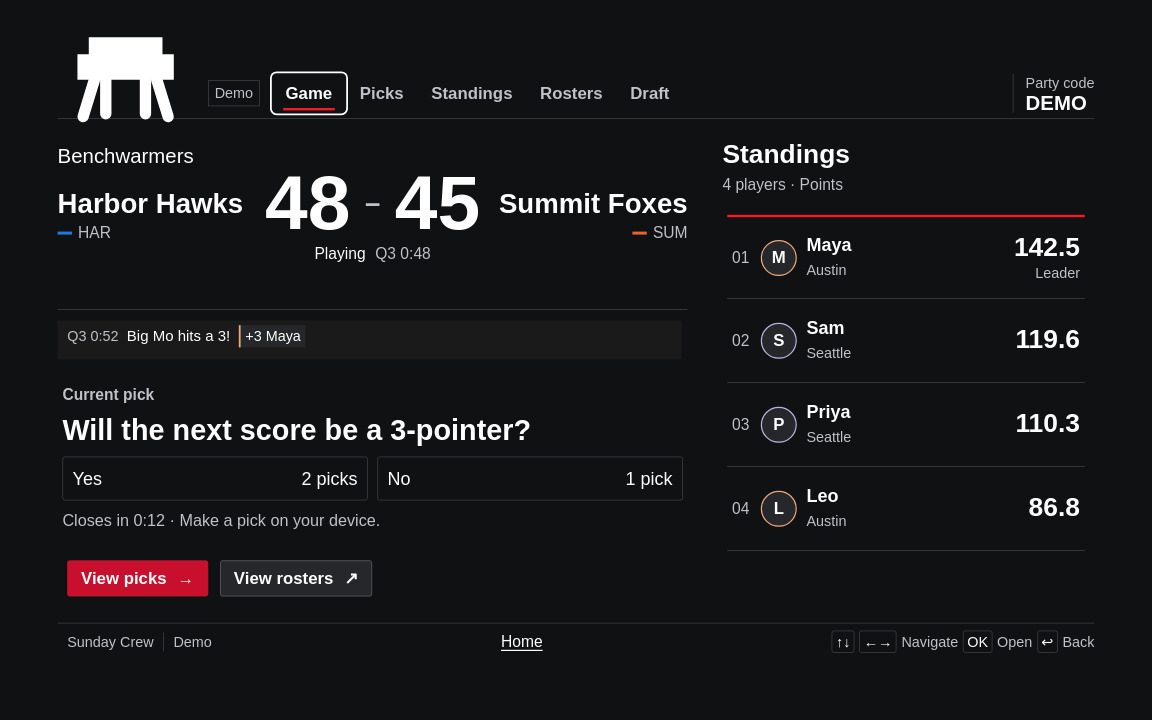
Test case: TvPage › keeps the game mounted while optional panels open and close
The image size is (1152, 720).
Expected: the element with class "tv-live" is shown, [58,136,1094,606]
Step 1. Click the button "Draft" → (650, 93), box [619,75,681,111]
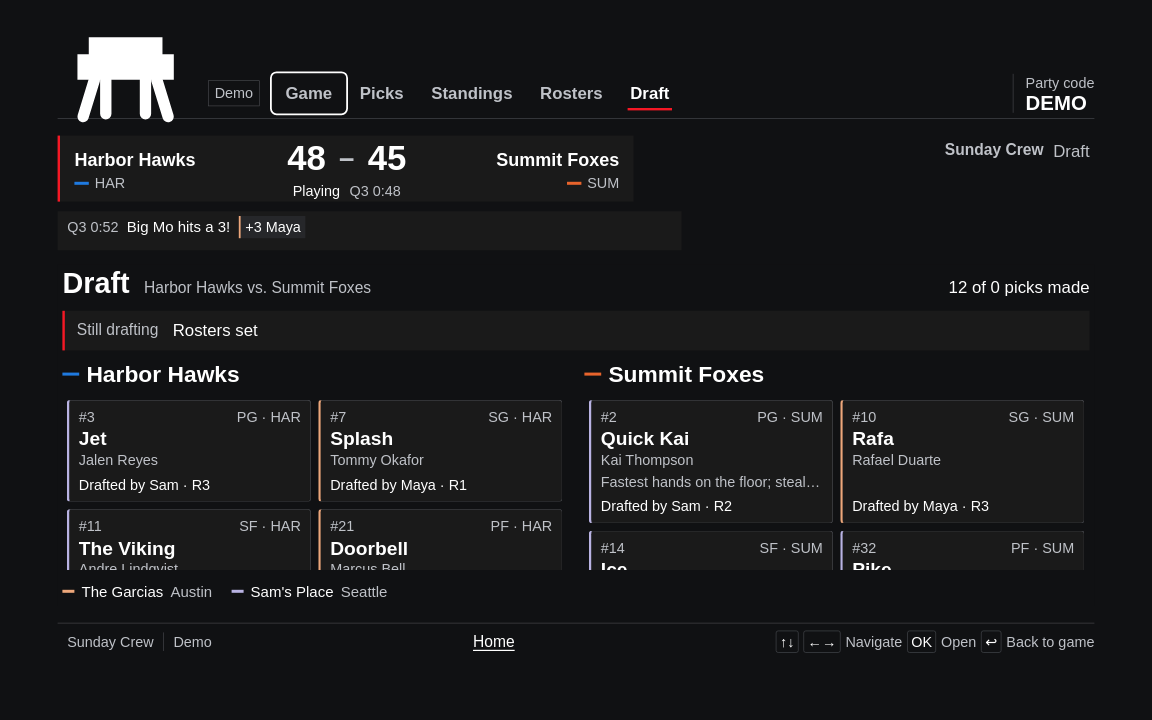
Step 2. Click the button "Game" → (309, 93), box [274,75,344,111]
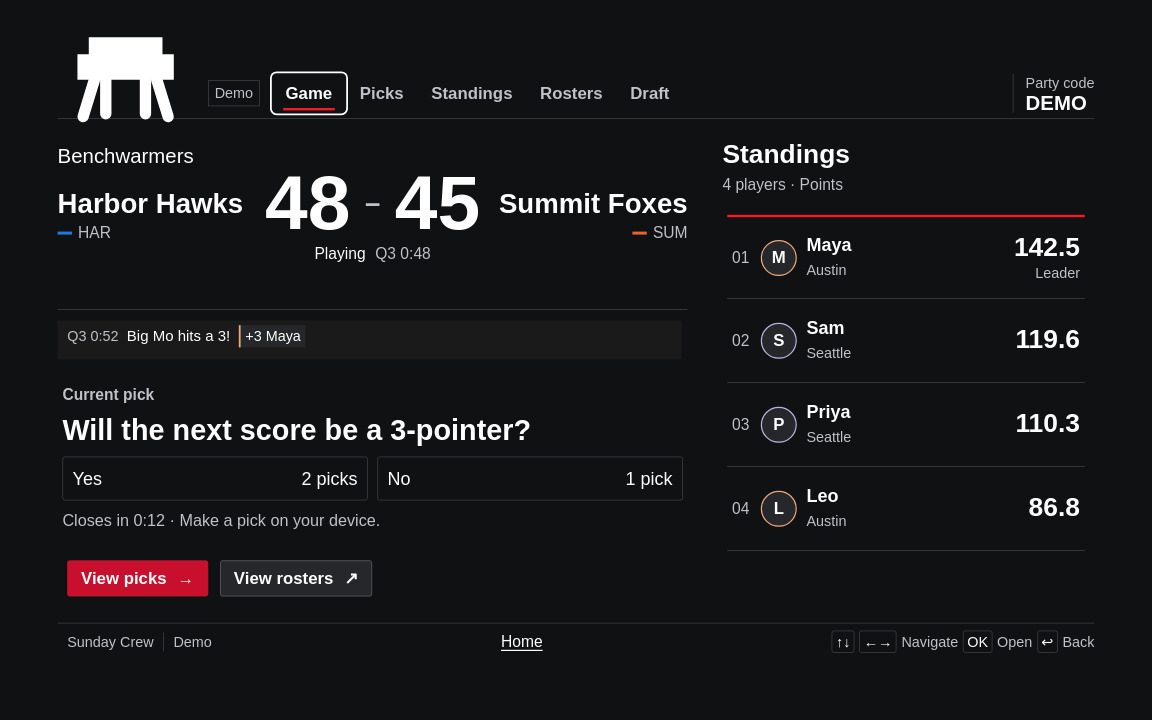
Step 3. Click the button "Standings" → (472, 93), box [420,75,524,111]
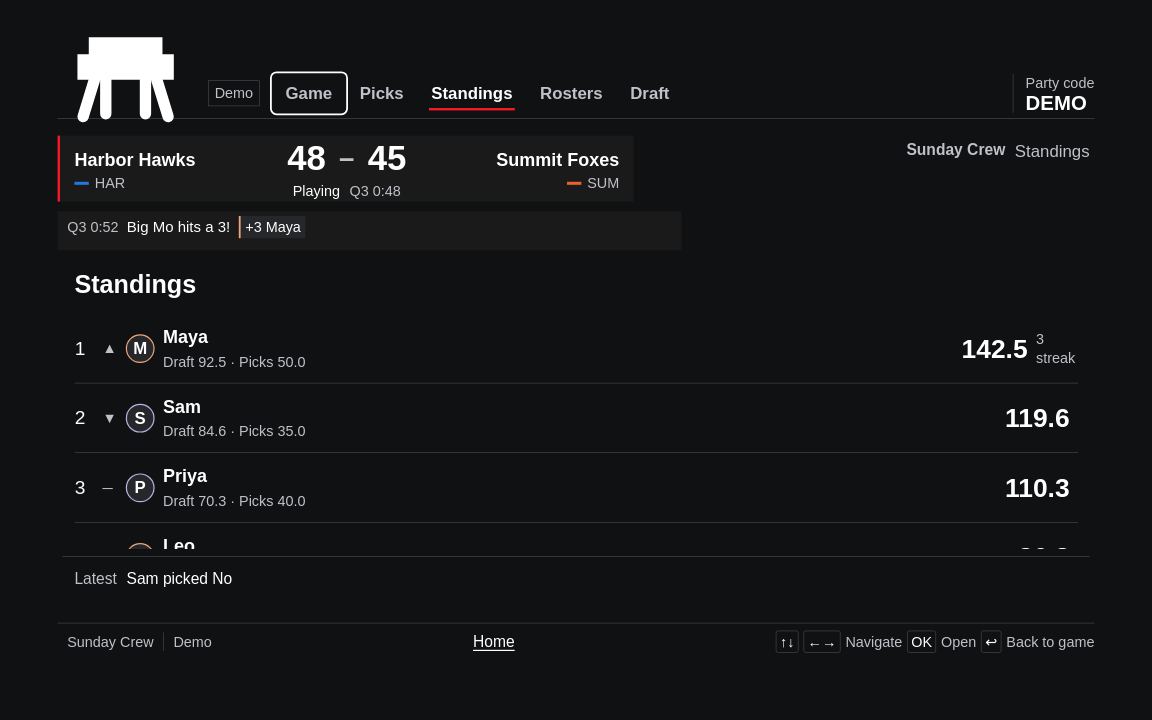
Expected: the element with class "tv-standings" is shown, [62,265,1090,556]
Step 4. Click the button "Standings" → (472, 93), box [420,75,524,111]
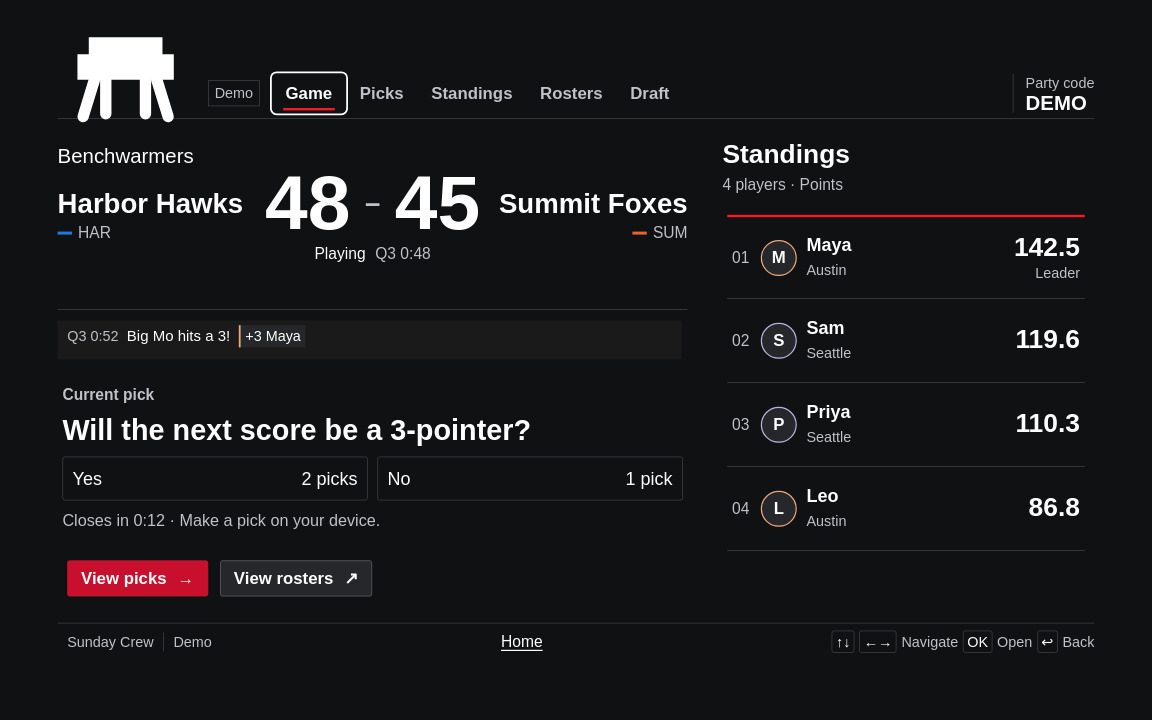
Expected: the element with class "tv-standings" is gone
